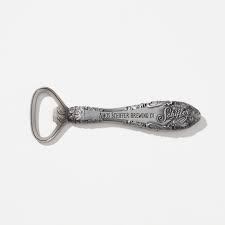bottleopener: (29, 86, 202, 147)
